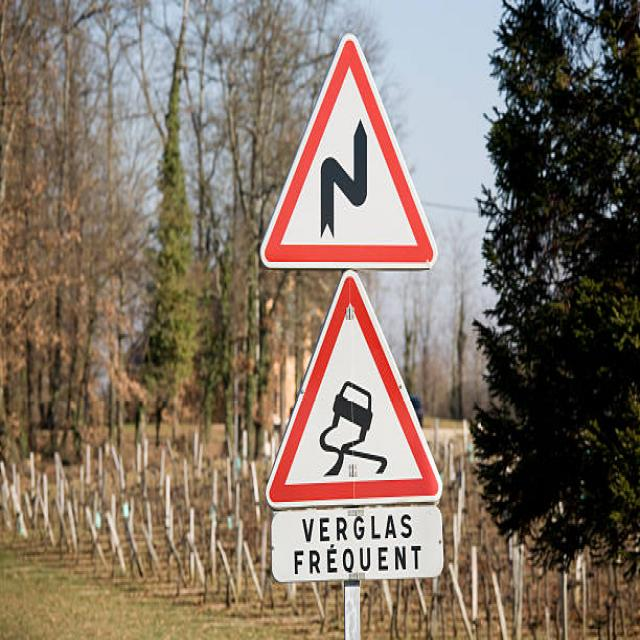road_slippery: (263, 268, 450, 509)
